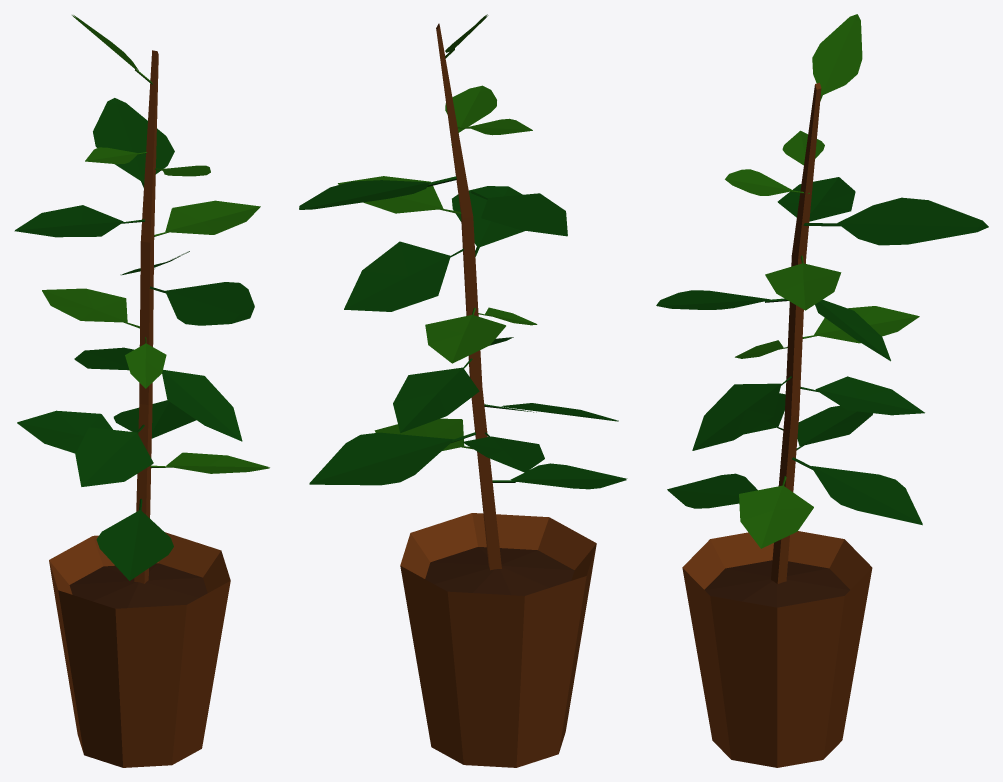
Rendered from potted-plant01_v02.fbx.
3 renders of one model, left to right at view 1: azimuth 30°, elevation 25°; view 2: azimuth 150°, elevation 25°; view 3: azimuth 270°, elevation 25°, orthographic. The views are drawn at different scales.
Visible parts, largest first — view 1: Pot, Stalk, Leaf1.000, Leaf1.011, Leaf2.001, Leaf2.003, Leaf1.002, Leaf1.010, Leaf1.008, Leaf1.004, Leaf1.009, Leaf1.003 (+6 smaller); view 2: Pot, Stalk, Leaf2.000, Leaf1.007, Leaf1.005, Leaf1.008, Leaf1.009, Leaf1.011, Leaf2.001, Leaf2.003, Leaf1.004, Leaf1.010 (+4 smaller); view 3: Pot, Stalk, Leaf1.011, Leaf2.000, Leaf1.002, Leaf1.003, Leaf1.006, Leaf1.005, Leaf1.010, Leaf2.001, Leaf1.008, Leaf1.004 (+5 smaller).
Boxes of the visible parts, box(x1,y1,x2,y2) form: Pot: box(49, 532, 230, 767); Stalk: box(134, 50, 158, 583); Leaf1.000: box(75, 424, 153, 486); Leaf1.011: box(93, 98, 174, 187); Leaf2.001: box(96, 498, 173, 580); Leaf2.003: box(149, 282, 254, 325); Leaf1.002: box(162, 369, 242, 441); Leaf1.010: box(154, 200, 260, 236); Leaf1.008: box(14, 205, 144, 237); Leaf1.004: box(17, 410, 112, 453); Leaf1.009: box(42, 288, 139, 328); Leaf1.003: box(150, 452, 269, 473); Pot: box(400, 513, 596, 767); Stalk: box(436, 23, 501, 570); Leaf2.000: box(309, 432, 475, 485); Leaf1.007: box(344, 241, 463, 311); Leaf1.005: box(393, 358, 479, 432); Leaf1.008: box(471, 191, 567, 236); Leaf1.009: box(425, 307, 505, 363); Leaf1.011: box(299, 176, 456, 209); Leaf2.001: box(492, 463, 627, 489); Leaf2.003: box(452, 186, 525, 256); Leaf1.004: box(463, 432, 544, 472); Leaf1.010: box(338, 176, 461, 214); Pot: box(682, 531, 872, 767); Stalk: box(771, 82, 821, 584); Leaf1.011: box(803, 197, 988, 245); Leaf2.000: box(792, 457, 922, 525); Leaf1.002: box(692, 376, 791, 450); Leaf1.003: box(739, 476, 813, 548); Leaf1.006: box(812, 14, 862, 100); Leaf1.005: box(800, 376, 924, 415); Leaf1.010: box(765, 255, 841, 310); Leaf2.001: box(667, 473, 757, 508); Leaf1.008: box(777, 177, 855, 221); Leaf1.004: box(796, 405, 872, 449).
Size of the model in its own units: 50.15 by 147 by 62.24.
